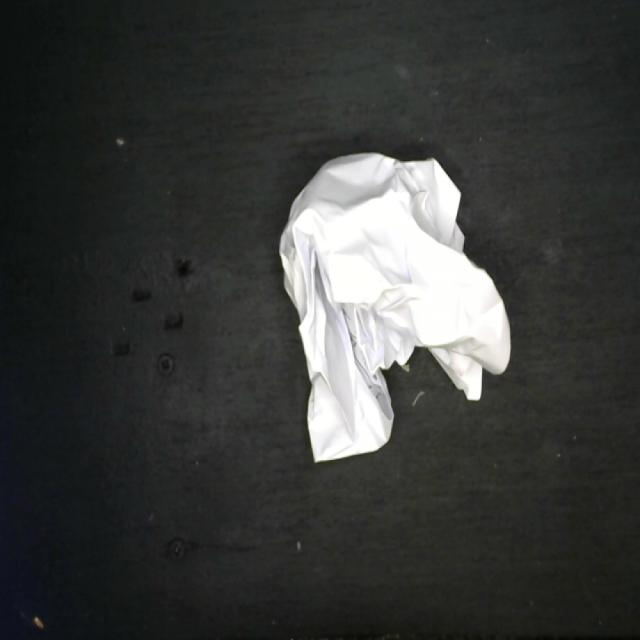biodegradable: (275, 147, 513, 466)
